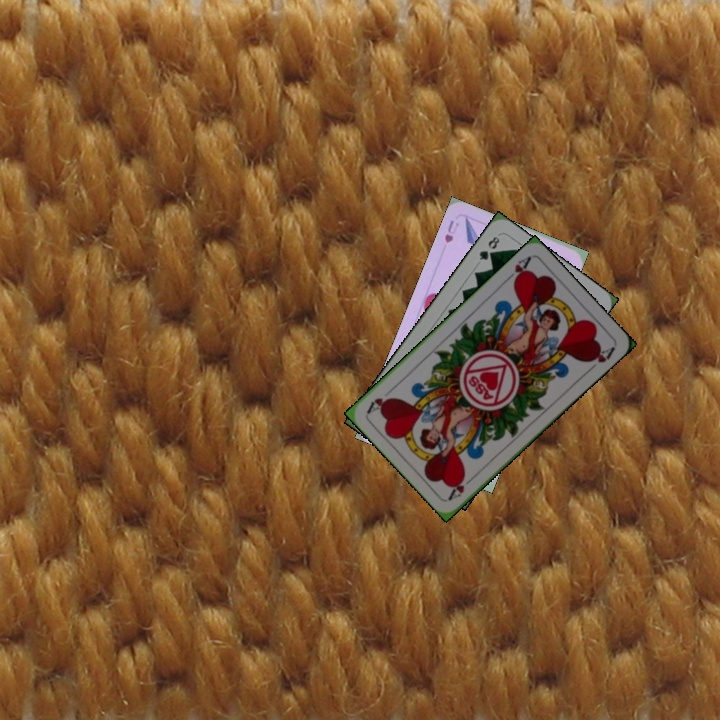G8: (475, 232, 502, 263)
HA: (501, 253, 534, 287), (444, 471, 479, 502)
HU: (440, 216, 462, 246)
